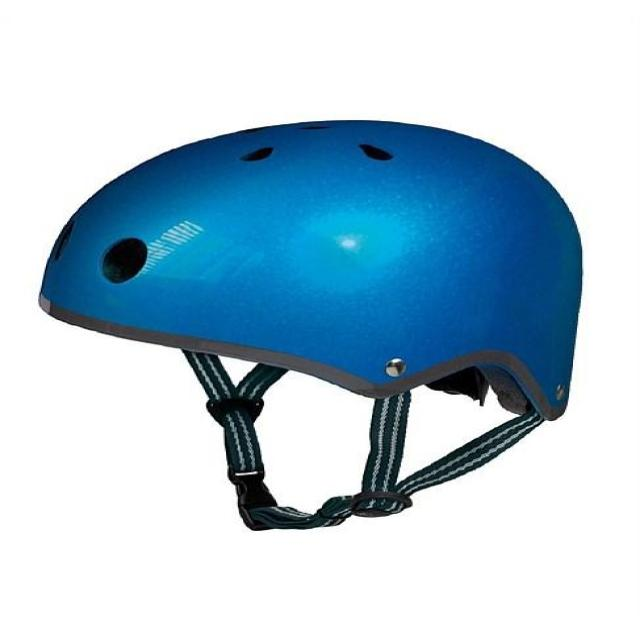Helmet: (38, 120, 588, 424)
